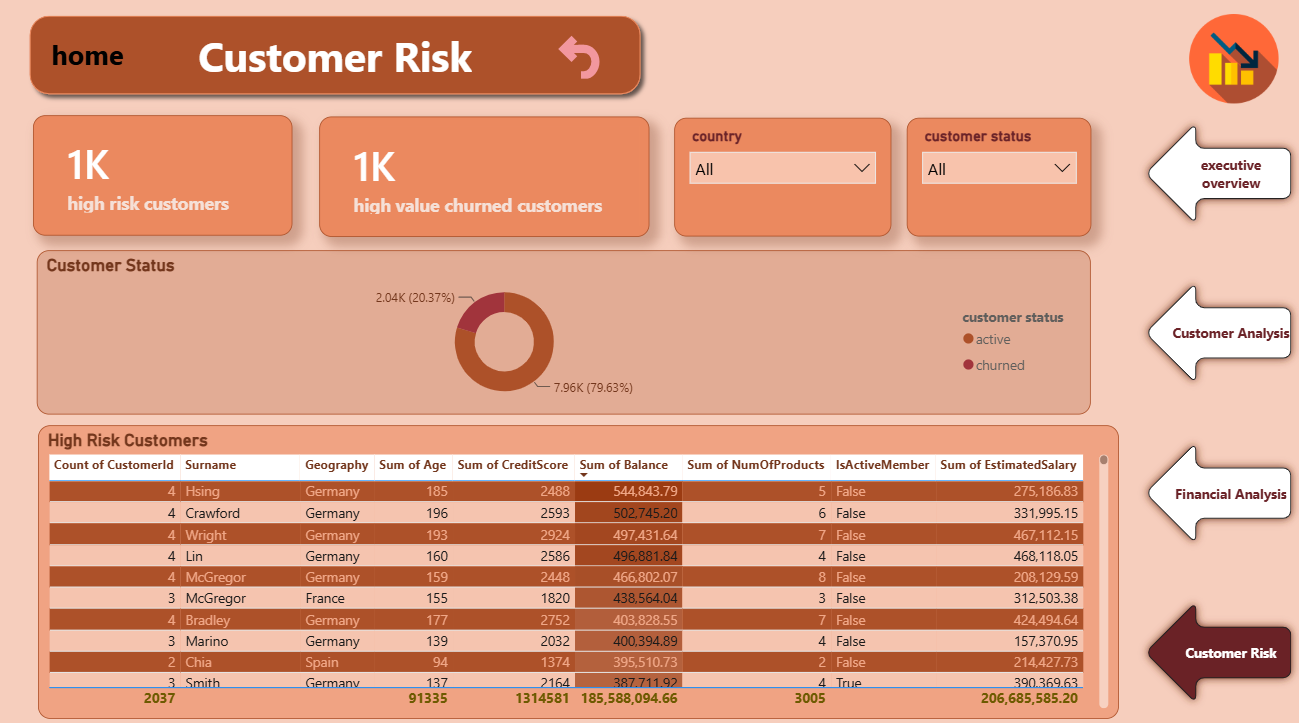

The page's visual inventory and layout, read from the dashboard file:
{"tool":"powerbi","page":{"name":"Customer Risk","canvas":[1280,720],"ordinal":4},"visuals":[{"type":"shape","box":[21.6,7.2,618.9,95.2],"z":0},{"type":"tableEx","title":"High Risk Customers","fields":{"Values":["CountNonNull(Churn_Modelling.CustomerId)","Churn_Modelling.Surname","Churn_Modelling.Geography","Sum(Churn_Modelling.Age)","Sum(Churn_Modelling.CreditScore)","Sum(Churn_Modelling.Balance)","Sum(Churn_Modelling.NumOfProducts)","Churn_Modelling.IsActiveMember","Sum(Churn_Modelling.EstimatedSalary)"]},"box":[39,419.8,1063.3,288.6],"z":1000},{"type":"slicer","fields":{"Values":["Churn_Modelling.Gender"]},"box":[665,116.7,213.3,116.7],"z":2000},{"type":"cardVisual","fields":{"Data":["Churn_Modelling.high risk customers"]},"box":[34.7,114,255,118.3],"z":3000},{"type":"cardVisual","fields":{"Data":["Churn_Modelling.high value churned customers"]},"box":[316.3,115.7,325,118.3],"z":4000},{"type":"donutChart","title":"Customer Status ","fields":{"Y":["CountNonNull(Churn_Modelling.CustomerId)"],"Category":["Churn_Modelling.customer status"]},"box":[38.3,246.7,1036.7,161.7],"z":5000},{"type":"slicer","fields":{"Values":["Churn_Modelling.customer status"]},"box":[893.3,116.7,181.7,116.7],"z":6000},{"type":"actionButton","box":[38.3,31.7,100,40],"z":7000},{"type":"actionButton","box":[539.6,31.7,64.9,50.5],"z":8000},{"type":"pageNavigator","box":[1119.6,112.5,160.1,591.5],"z":9000}]}

Visuals, with their boxes in screenshot pixels (x1, y1, x2, y2), scaled from the page's 1280x720 canvas onto the 1299x723 screenshot:
shape: locate(22, 7, 650, 103)
"High Risk Customers" tableEx: locate(40, 422, 1119, 711)
slicer - Churn_Modelling.Gender: locate(675, 117, 891, 234)
cardVisual - Churn_Modelling.high risk customers: locate(35, 114, 294, 233)
cardVisual - Churn_Modelling.high value churned customers: locate(321, 116, 651, 235)
"Customer Status " donutChart: locate(39, 248, 1091, 410)
slicer - Churn_Modelling.customer status: locate(907, 117, 1091, 234)
actionButton: locate(39, 32, 140, 72)
actionButton: locate(548, 32, 613, 83)
pageNavigator: locate(1136, 113, 1298, 707)
